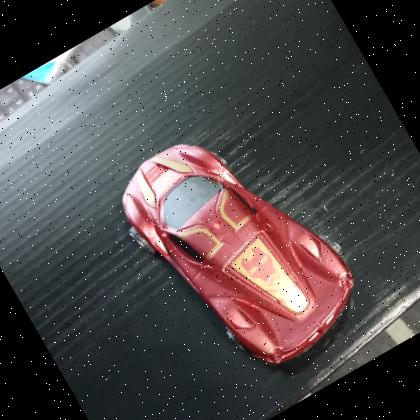Car: (94, 90, 382, 406)
